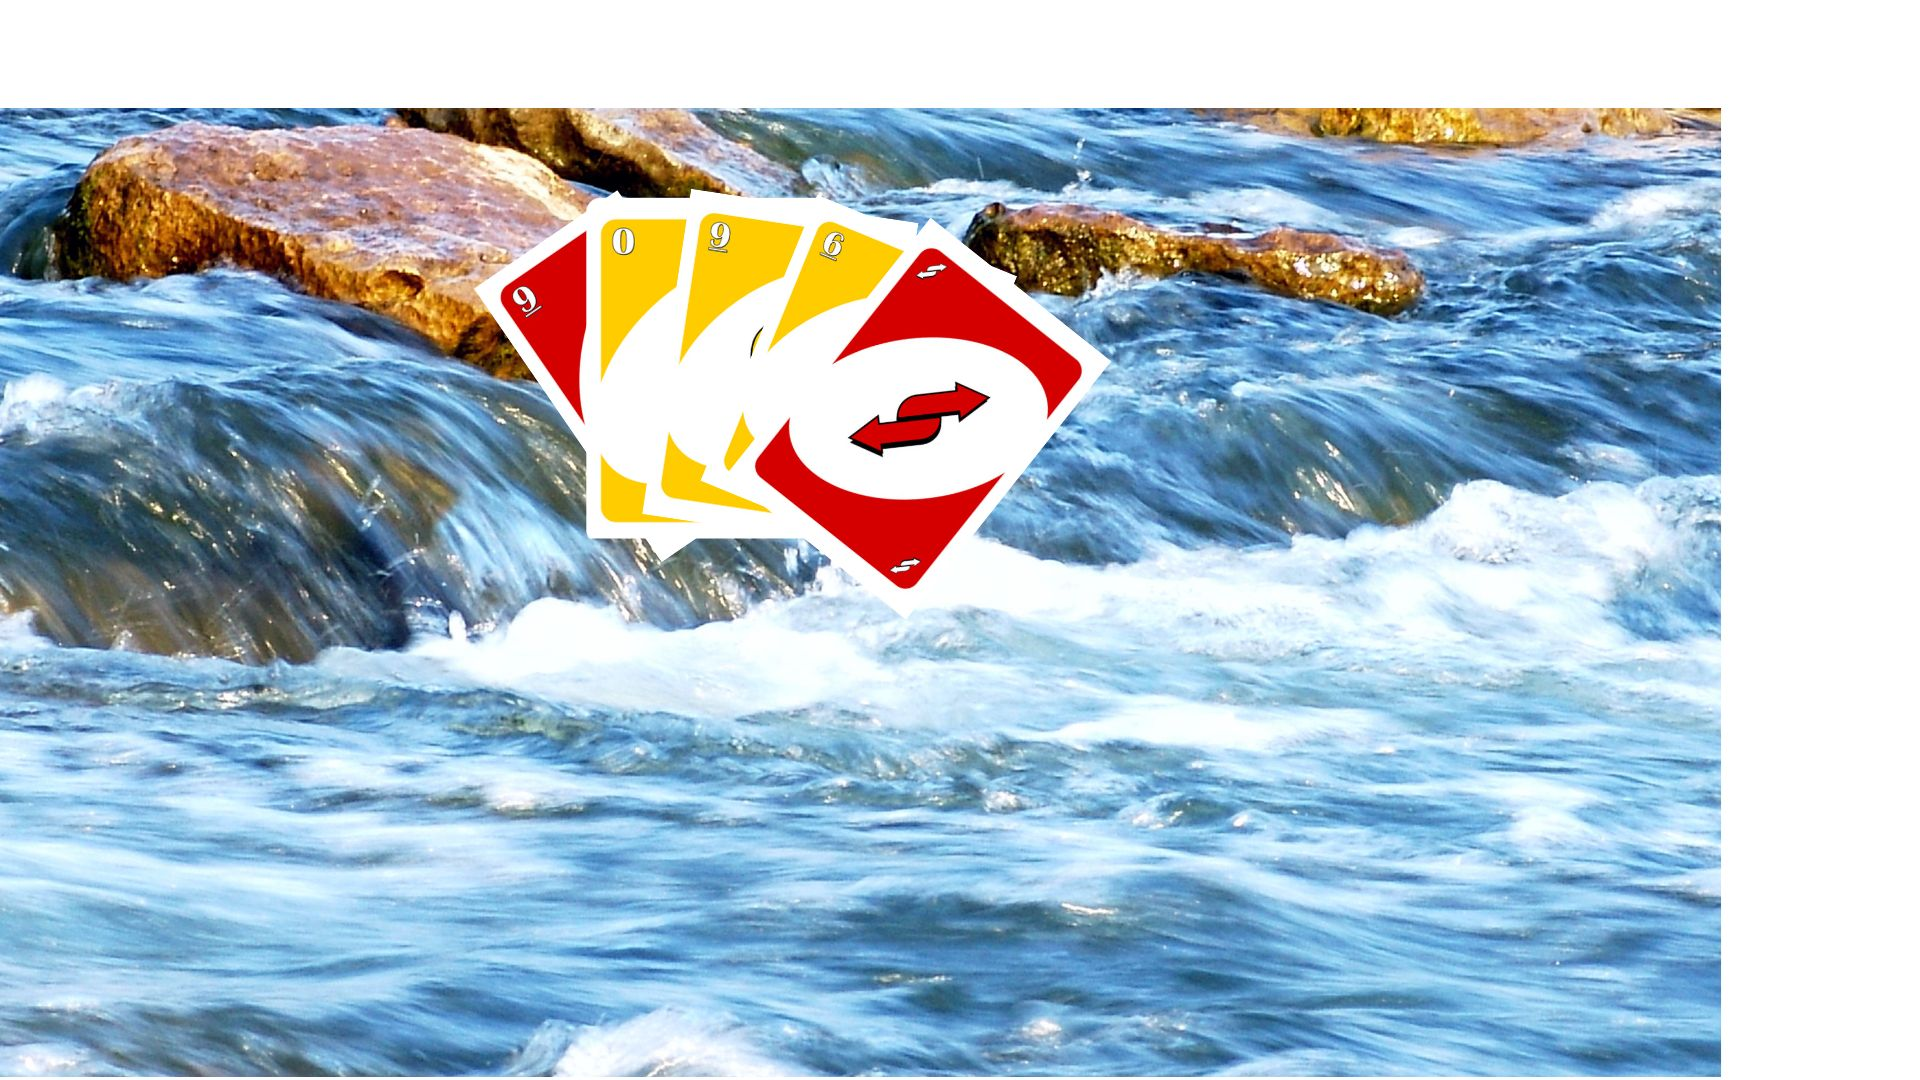0_yellow: (820, 228, 845, 264)
1_red: (607, 227, 638, 256)
3_red: (844, 371, 992, 459), (914, 257, 947, 289), (886, 554, 922, 575)
3_yellow: (705, 220, 732, 253)
4_red: (510, 284, 543, 320)
